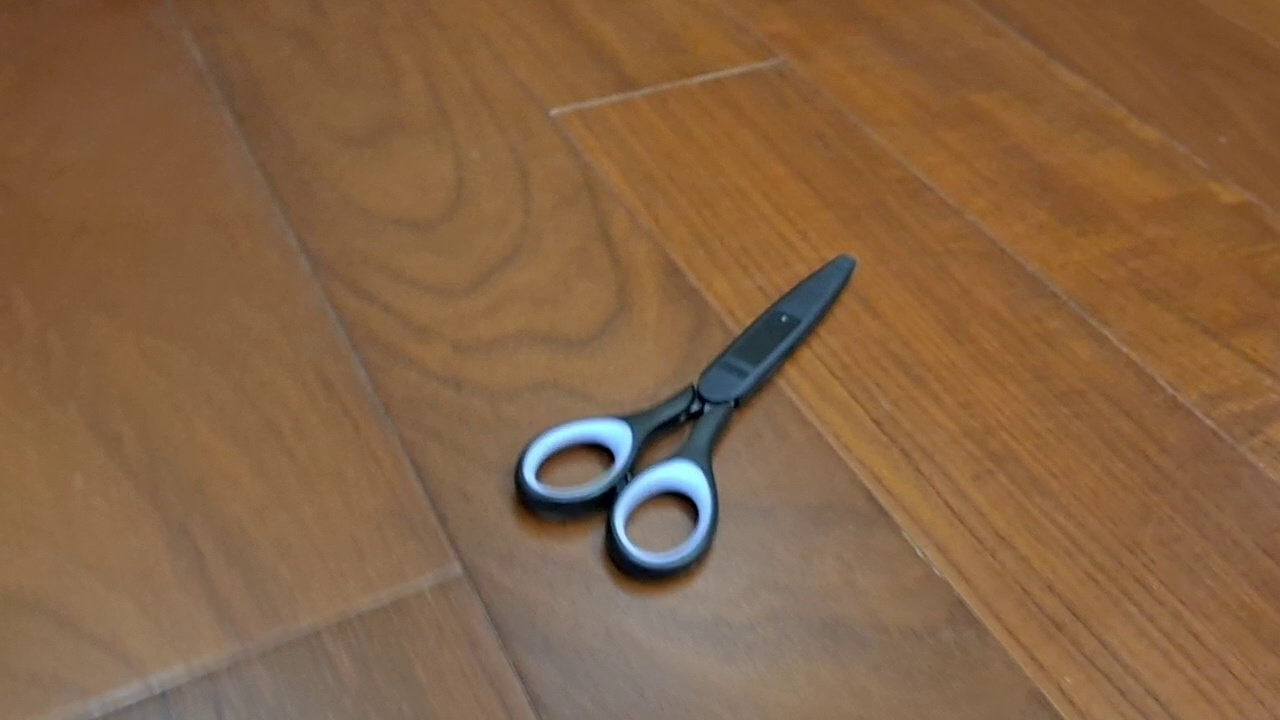scissors: (512, 252, 858, 587)
